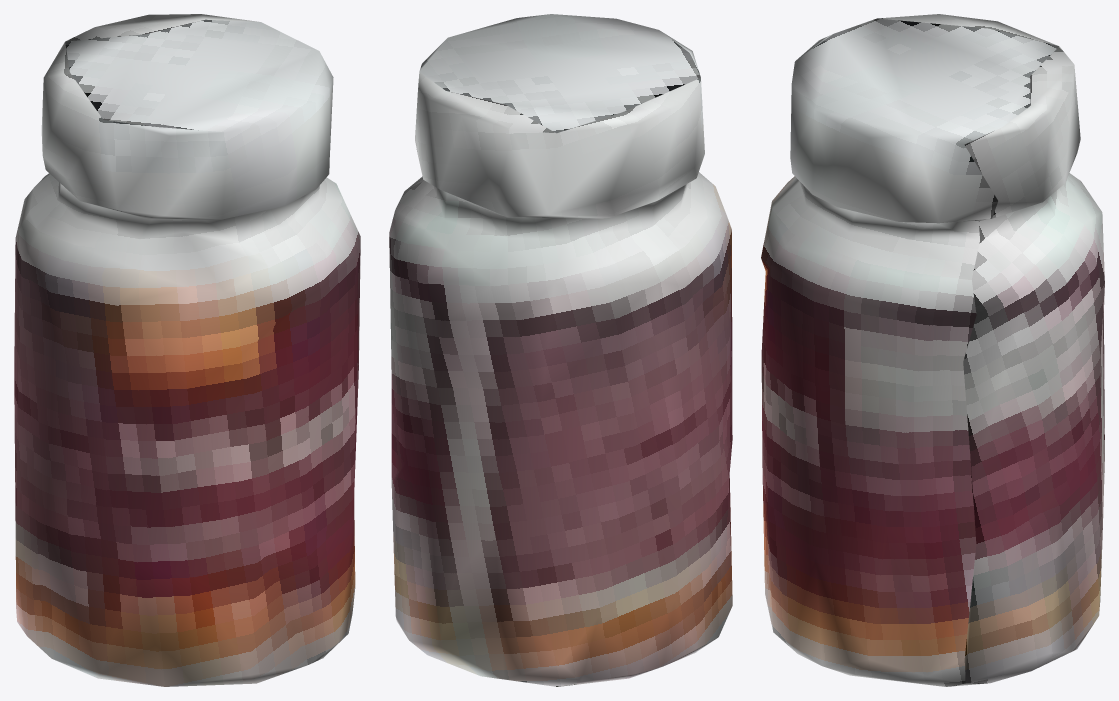
Rendered from Folic_Acid-low.glb.
3 renders of one model, left to right at view 1: azimuth 30°, elevation 25°; view 2: azimuth 150°, elevation 25°; view 3: azimuth 270°, elevation 25°, orthographic.
Parts seen in each view (by area): view 1: Folic_Acid; view 2: Folic_Acid; view 3: Folic_Acid.
Part boxes in pixels (x1,y1,x2,y2): Folic_Acid: [14, 14, 360, 686]; Folic_Acid: [389, 14, 732, 686]; Folic_Acid: [761, 14, 1104, 686].
Size of the model in its own units: 0.0475 by 0.0836 by 0.0473.
1 material, 1 textured.
